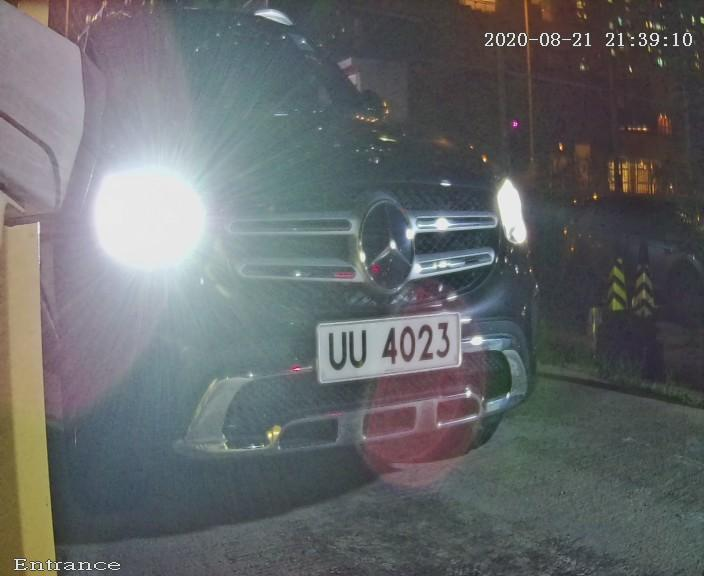License Plate: (305, 301, 466, 391)
